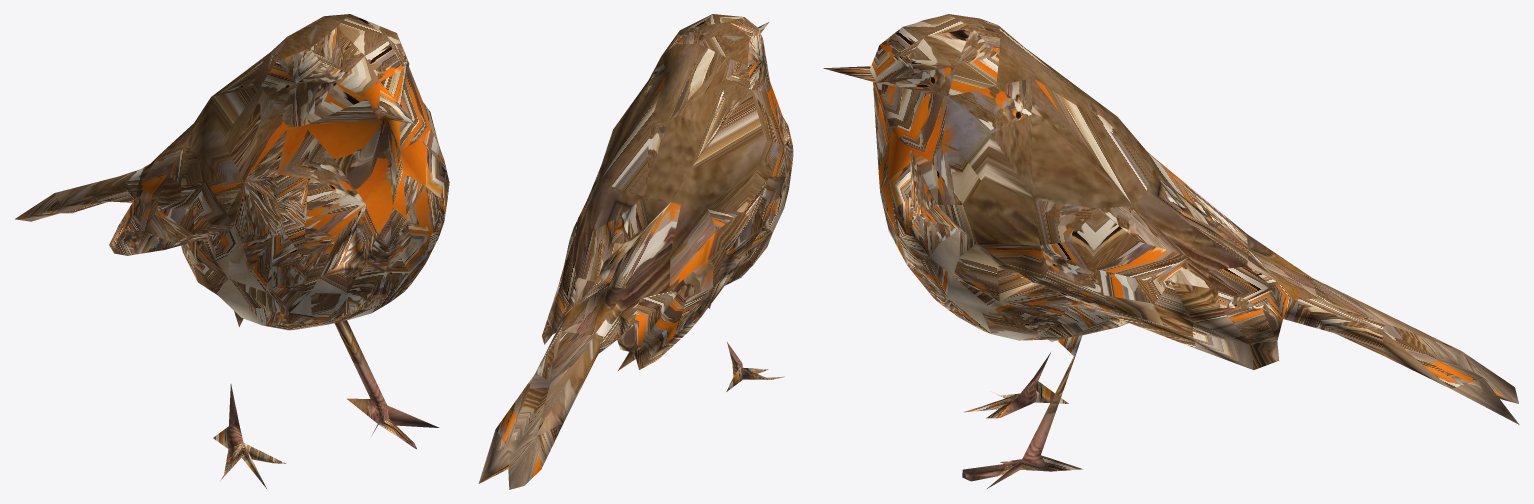
File: bird.glb
3 views of the same model, side by side, from view 1: azimuth 30°, elevation 25°; view 2: azimuth 150°, elevation 25°; view 3: azimuth 270°, elevation 25° (orthographic). The views are drawn at different scales.
Visible parts, largest first — view 1: bird; view 2: bird; view 3: bird.
Boxes of the visible parts, <box> form: bird: <box>15,14,449,488</box>; bird: <box>478,14,793,489</box>; bird: <box>823,14,1519,488</box>.
Size of the model in its own units: 0.048 by 0.094 by 0.1391.
Materials: 1 (1 with a texture image).
